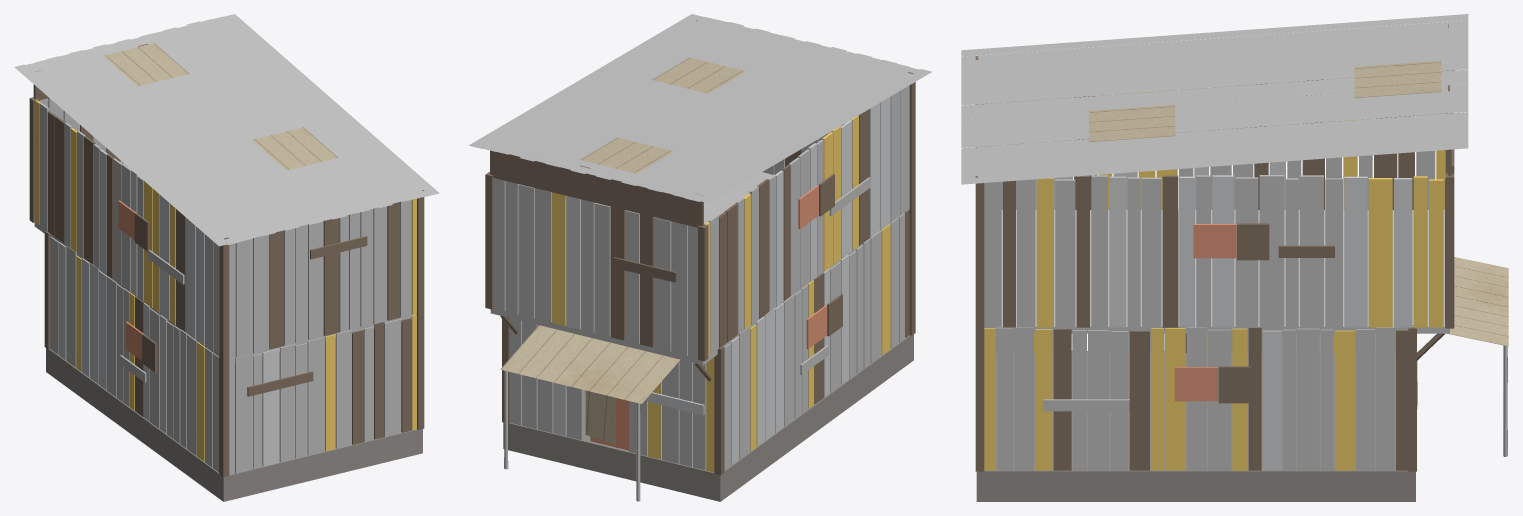
The model's file is SM_Art_Settlement_Shanty_3.gltf.
3 views of the same model, side by side, from view 1: azimuth 30°, elevation 25°; view 2: azimuth 150°, elevation 25°; view 3: azimuth 270°, elevation 25° (orthographic). The views are drawn at different scales.
Parts seen in each view (by area): view 1: SM_Art_Settlement_Shanty_3; view 2: SM_Art_Settlement_Shanty_3; view 3: SM_Art_Settlement_Shanty_3.
Part boxes in pixels (<box>): SM_Art_Settlement_Shanty_3: <box>14,14,439,501</box>; SM_Art_Settlement_Shanty_3: <box>469,14,932,501</box>; SM_Art_Settlement_Shanty_3: <box>961,14,1508,501</box>.
Size of the model in its own units: 5.1 by 6.45 by 8.85.
